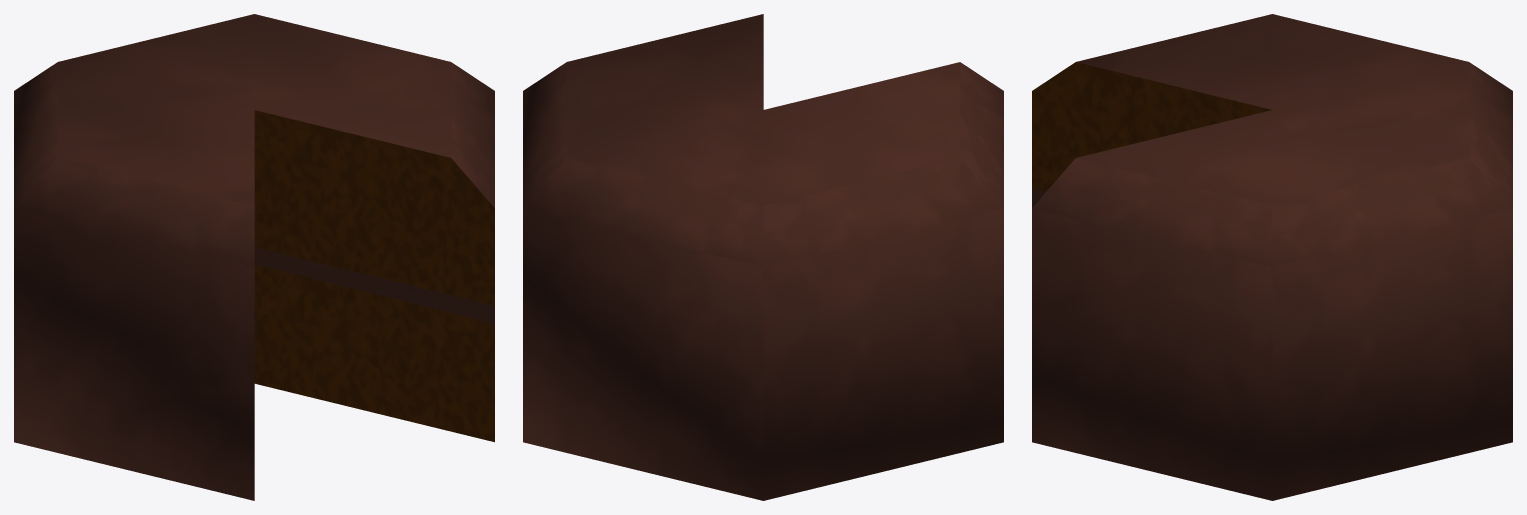
Rendered from Cake_Sliced_C.FBX.
3 views of the same model, side by side, from view 1: azimuth 30°, elevation 25°; view 2: azimuth 150°, elevation 25°; view 3: azimuth 270°, elevation 25° (orthographic).
Parts seen in each view (by area): view 1: Cake_E; view 2: Cake_E; view 3: Cake_E.
Boxes of the visible parts, x1,y1,x2,y2 form: Cake_E: [14, 14, 494, 500]; Cake_E: [523, 14, 1003, 500]; Cake_E: [1032, 14, 1512, 500].
Bounding box in the file's own units: 102 × 55.58 × 88.51.
